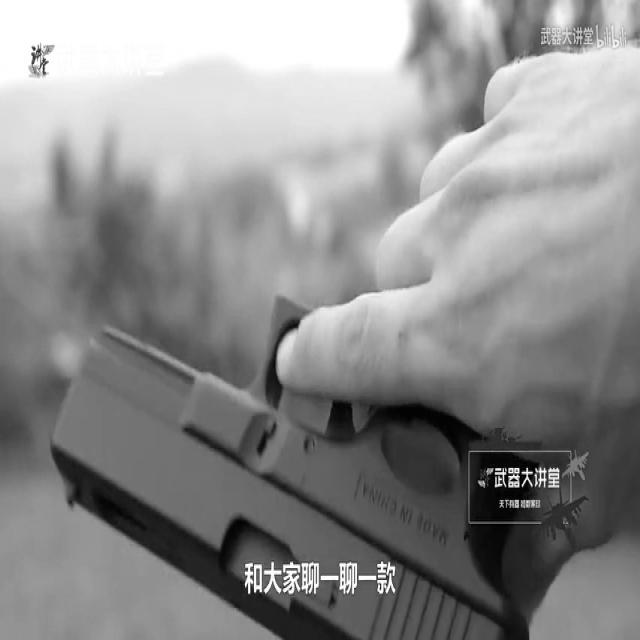Hand-Gun: (30, 169, 587, 640)
